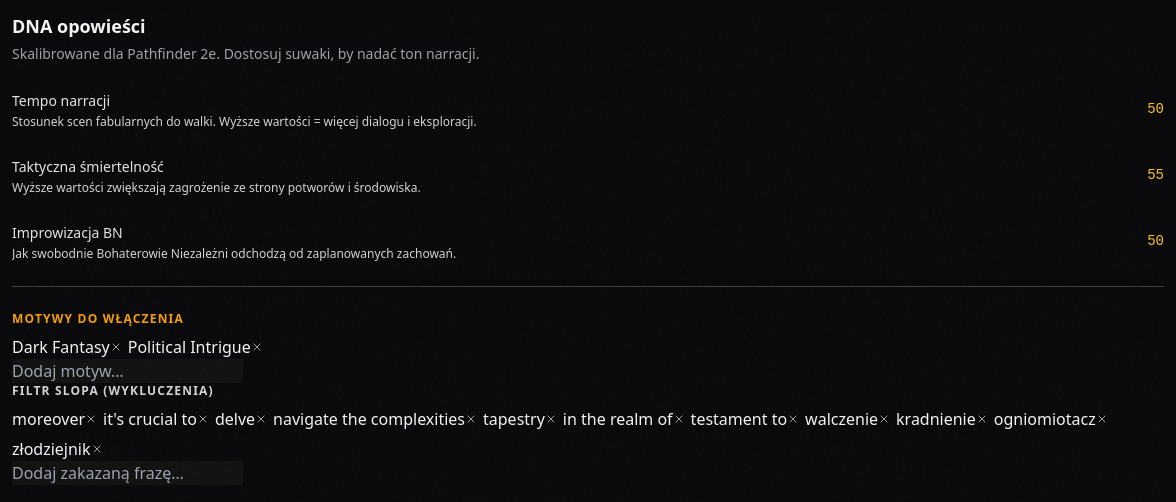
Test: StoryDNAConfig › adding a new include tag via FilterTags updates the store
The width and height of the screenshot is (1176, 502).
Type "Powstanie nieumarłych" into the field with placeholder "Dodaj motyw…" at (128, 371), box [12, 359, 243, 383]
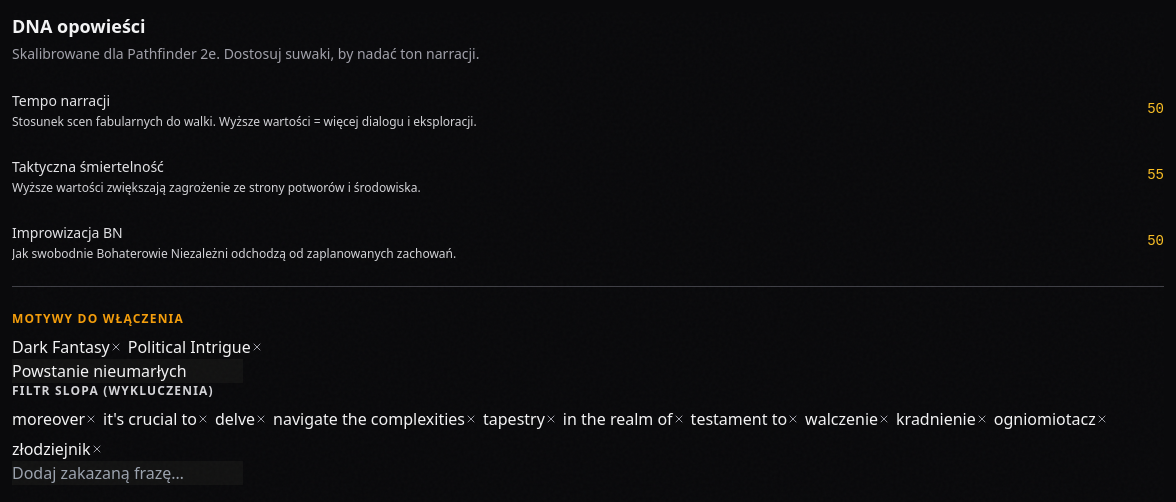
Press Enter in the field with placeholder "Dodaj motyw…", box [12, 359, 243, 383]
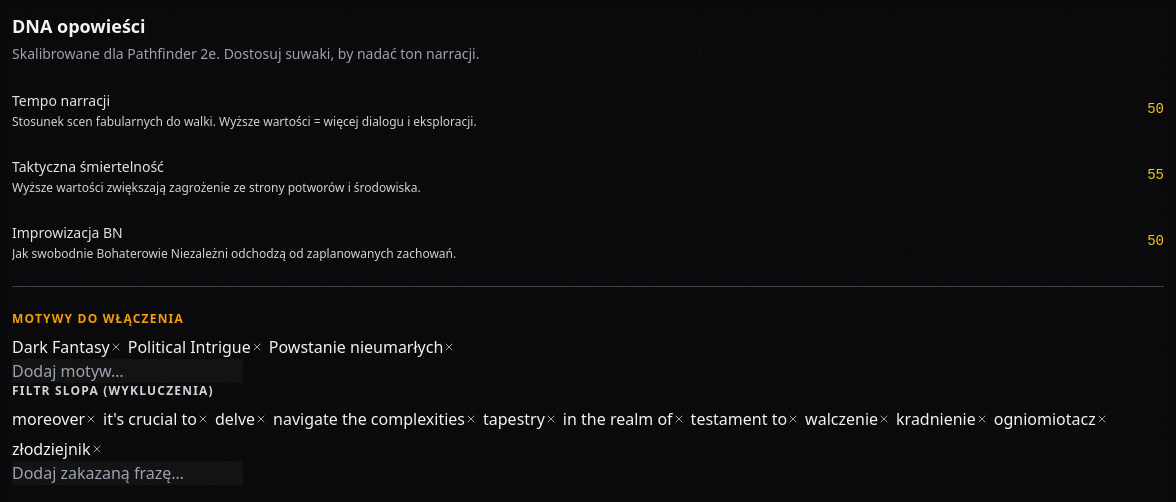
Expected: the element showing "Powstanie nieumarłych" is shown, [269, 335, 455, 359]
